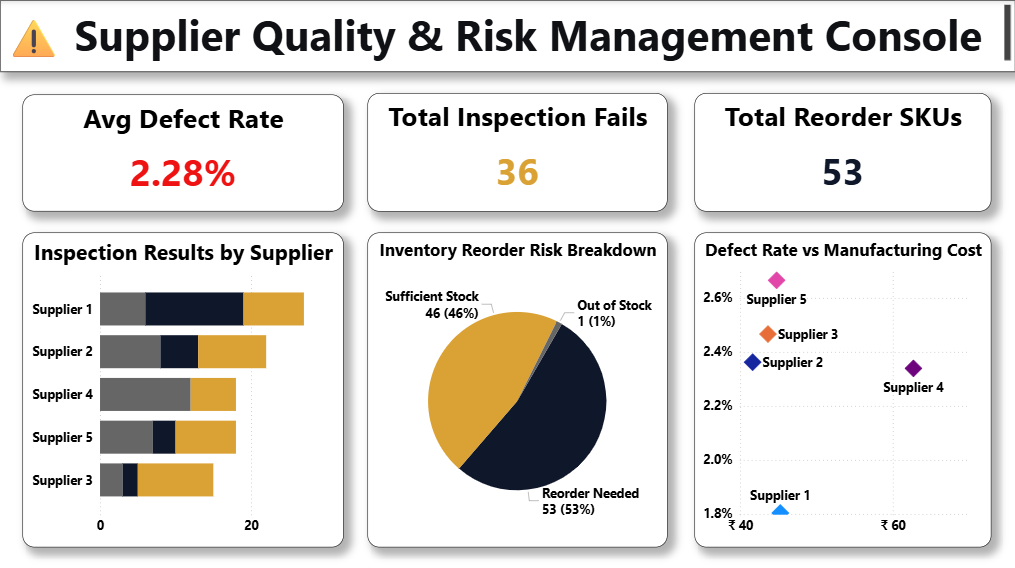

This screenshot's page, from the dashboard's own definition file:
{"tool":"powerbi","page":{"name":"Supplier Quality & Risk Assessment","canvas":[1280,720],"ordinal":2},"visuals":[{"type":"card","title":"Avg Defect Rate","fields":{"Values":["Avg(Table.Defect rates)"]},"box":[28.3,119.1,404.4,147.4],"z":0},{"type":"card","title":"Total Inspection Fails","fields":{"Values":["CountNonNull(Table.SKU)"]},"box":[463,117.2,378,149.3],"z":1000},{"type":"card","title":"Total Reorder SKUs","fields":{"Values":["CountNonNull(Table.SKU)"]},"box":[875,117.2,374.2,149.3],"z":2000},{"type":"barChart","title":"Inspection Results by Supplier","fields":{"Category":["Table.Supplier name"],"Y":["CountNonNull(Table.SKU)"],"Series":["Table.Inspection results"]},"box":[28.3,292.9,404.4,396.9],"z":3000},{"type":"scatterChart","title":"Defect Rate vs Manufacturing Cost","fields":{"Y":["Avg(Table.Defect rates)"],"X":["Table.Manufacturing costs"],"Series":["Table.Supplier name"]},"box":[875,292.9,374.2,396.9],"z":4000},{"type":"pieChart","title":"Inventory Reorder Risk Breakdown","fields":{"Y":["CountNonNull(Table.SKU)"],"Category":["Table.Stock_Status"]},"box":[463,292.9,378,396.9],"z":5000},{"type":"textbox","box":[0,0,1279.4,90.7],"z":6000}]}

Visuals, with their boxes in screenshot pixels (x1, y1, x2, y2), scaled from the page's 1280x720 canvas onto the 1015x568 screenshot:
"Avg Defect Rate" card: locate(22, 94, 343, 210)
"Total Inspection Fails" card: locate(367, 92, 667, 210)
"Total Reorder SKUs" card: locate(694, 92, 991, 210)
"Inspection Results by Supplier" barChart: locate(22, 231, 343, 544)
"Defect Rate vs Manufacturing Cost" scatterChart: locate(694, 231, 991, 544)
"Inventory Reorder Risk Breakdown" pieChart: locate(367, 231, 667, 544)
textbox: locate(0, 0, 1014, 72)
